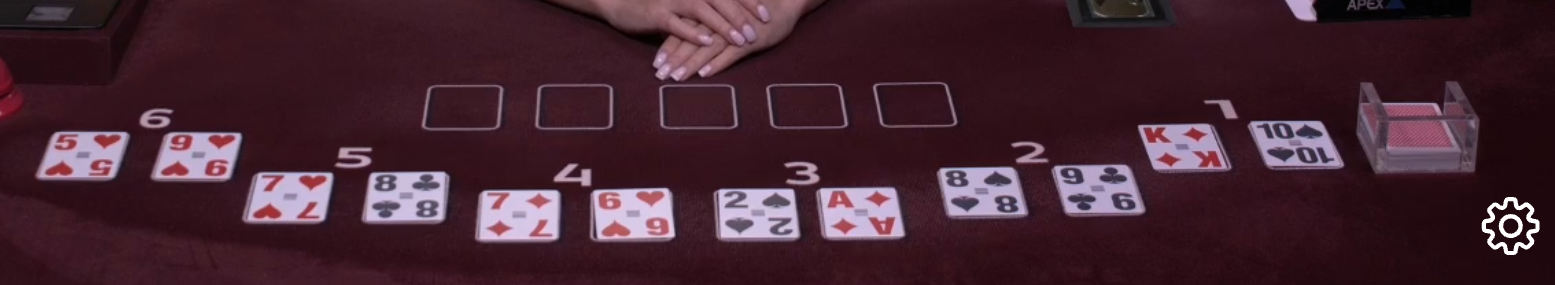10s: (1241, 115, 1352, 175)
2s: (715, 181, 803, 246)
5h: (38, 127, 127, 186)
6h: (588, 182, 680, 248)
7d: (475, 182, 567, 248)
7h: (245, 166, 334, 226)
8c: (361, 166, 453, 227)
8s: (933, 161, 1032, 221)
9c: (1050, 159, 1146, 223)
9h: (153, 124, 243, 183)
asd: (812, 183, 908, 243)
kd: (1134, 120, 1236, 178)
